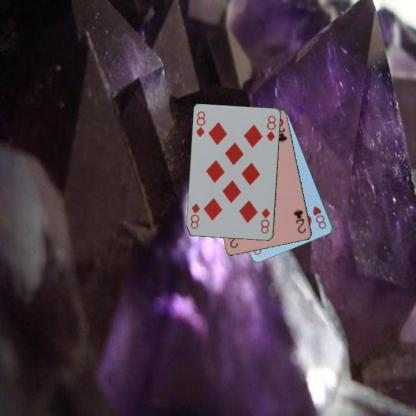2c: (292, 206, 308, 235)
8d: (193, 108, 207, 138), (258, 206, 272, 235)
8h: (310, 204, 328, 231)
